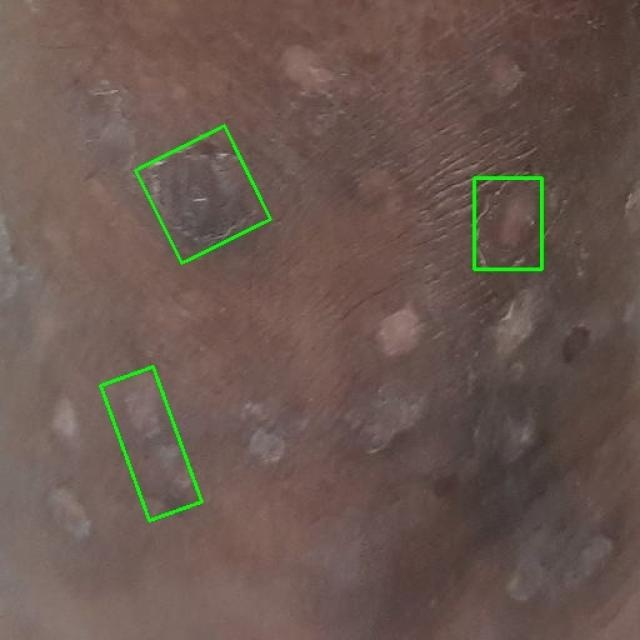Contact Dermatitis: (135, 126, 271, 264), (101, 367, 202, 520), (474, 178, 541, 269)
